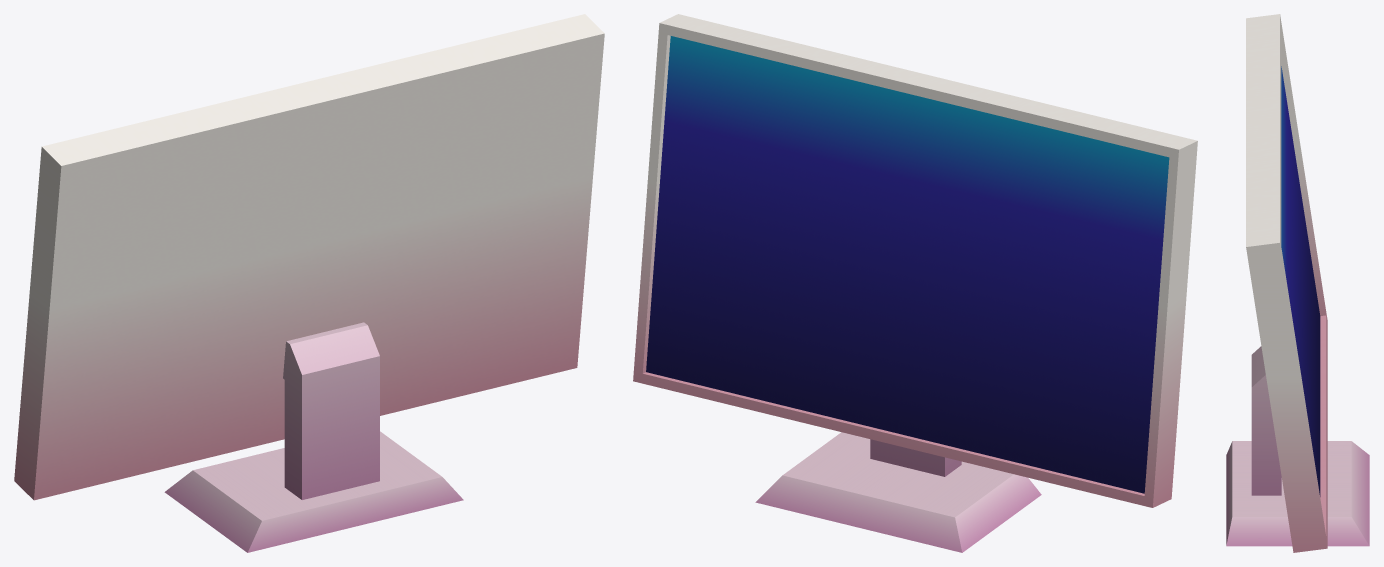
File: computerScreen.fbx
The picture shows the model from 3 angles, left to right: view 1: azimuth 30°, elevation 25°; view 2: azimuth 150°, elevation 25°; view 3: azimuth 270°, elevation 25°; orthographic projection. The views are drawn at different scales.
Visible parts, largest first — view 1: computerScreen1; view 2: computerScreen1; view 3: computerScreen1.
Part boxes in pixels (x1=…): computerScreen1: x1=14, y1=14, x2=604, y2=552; computerScreen1: x1=633, y1=14, x2=1197, y2=552; computerScreen1: x1=1226, y1=14, x2=1369, y2=552.
Size of the model in its own units: 91.24 by 68.38 by 24.17.
